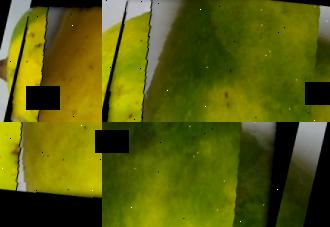PartiallyRipe: (102, 0, 330, 122), (102, 122, 299, 227), (0, 122, 102, 223)
Ripe: (0, 0, 102, 122)
